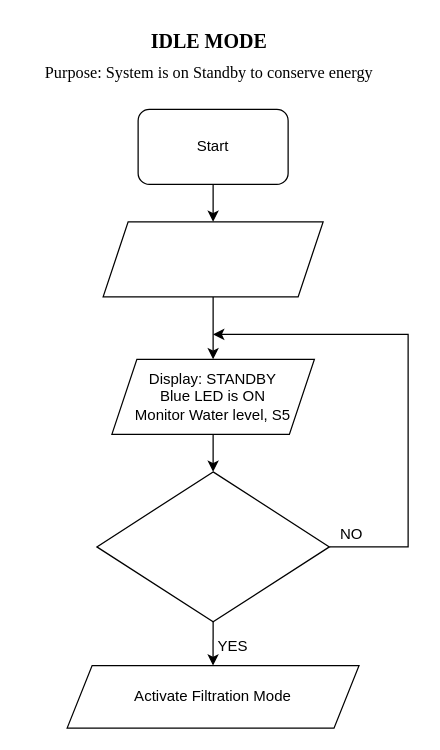
Image size: 440x750. Some labels were removed from this diagram. Each missing label, with the centre of its shape:
"Check water Level (S5) Is water level < 40% ?" goes at [212,546].
"Close Valve, V1 Turn off Pump,P1 Turn off UV lamp" goes at [212,259].
